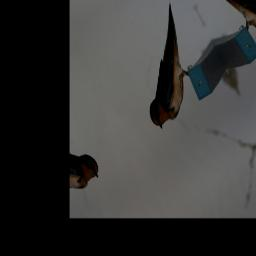Swallow: (112, 0, 217, 136)
